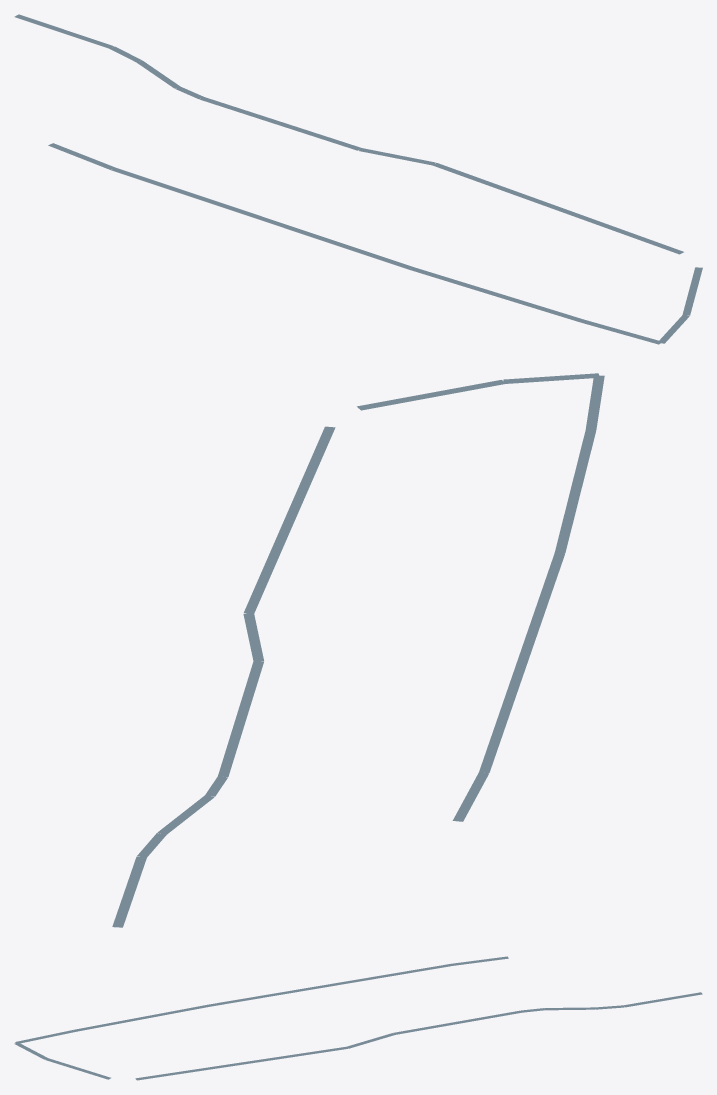
3 views of the same model, one above another, from view 1: azimuth 30°, elevation 25°; view 2: azimuth 150°, elevation 25°; view 3: azimuth 270°, elevation 25° (orthographic). The views are drawn at different scales.
Bounding box in the file's own units: 218 × 0 × 511.
